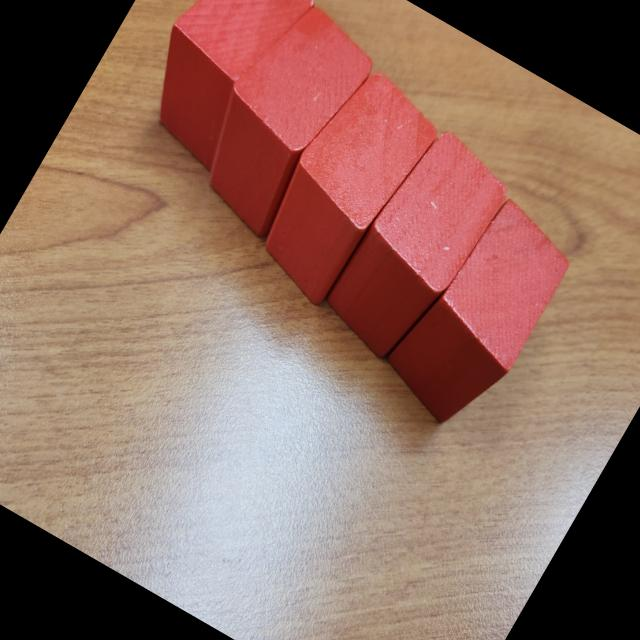red: (238, 56, 452, 318), (370, 185, 584, 442), (312, 118, 522, 374), (173, 0, 386, 245), (118, 0, 326, 179)
